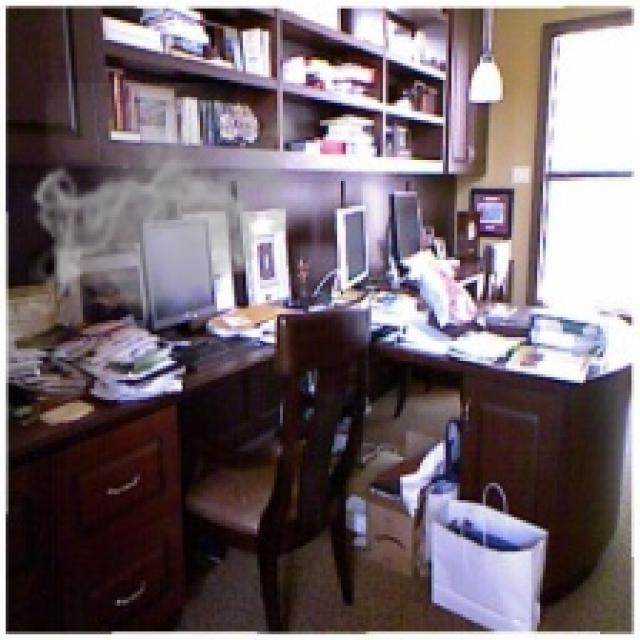smoke: (29, 83, 308, 328)
